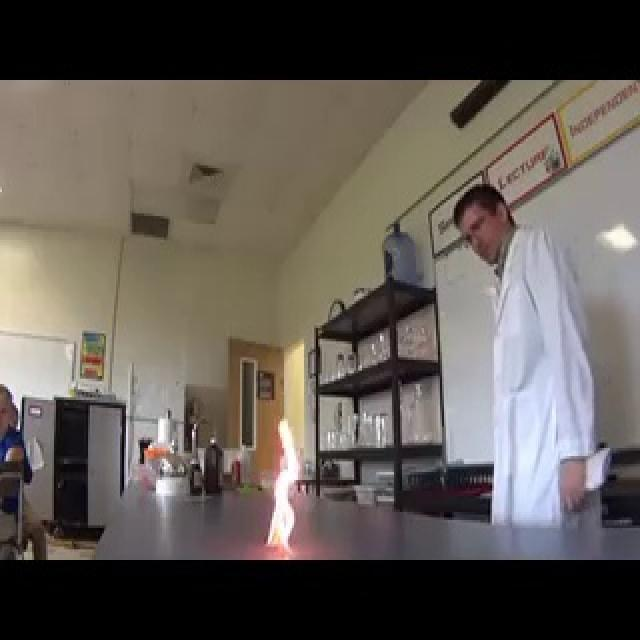fire: (255, 429, 311, 552)
